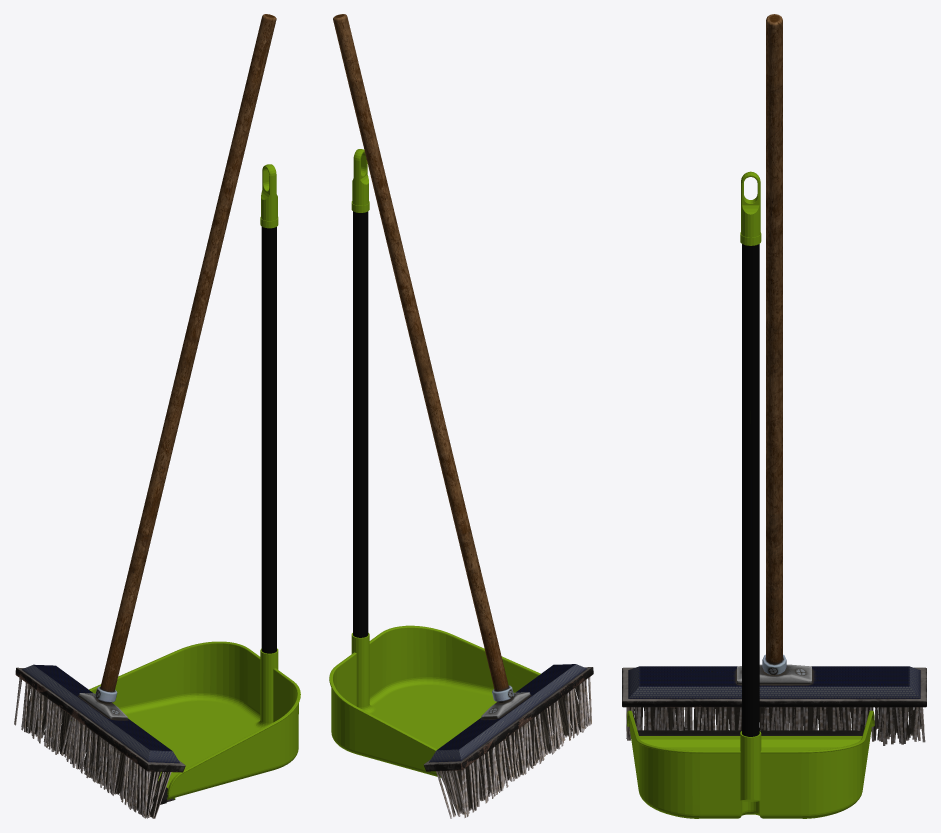
The model's file is broom.fbx.
The picture shows the model from 3 angles, left to right: view 1: azimuth 30°, elevation 25°; view 2: azimuth 150°, elevation 25°; view 3: azimuth 270°, elevation 25°; orthographic projection. The views are drawn at different scales.
Parts seen in each view (by area): view 1: transform1, Object_0; view 2: transform1, Object_0; view 3: Object_0, transform1.
Part boxes in pixels (x1,y1,x2,y2): transform1: (61,164,300,804); Object_0: (14,14,276,818); transform1: (329,149,564,780); Object_0: (333,14,593,818); Object_0: (622,14,926,745); transform1: (627,171,874,818).
Bounding box in the file's own units: 3.81 × 13.17 × 4.41.
Materials: 2 (2 with a texture image).
